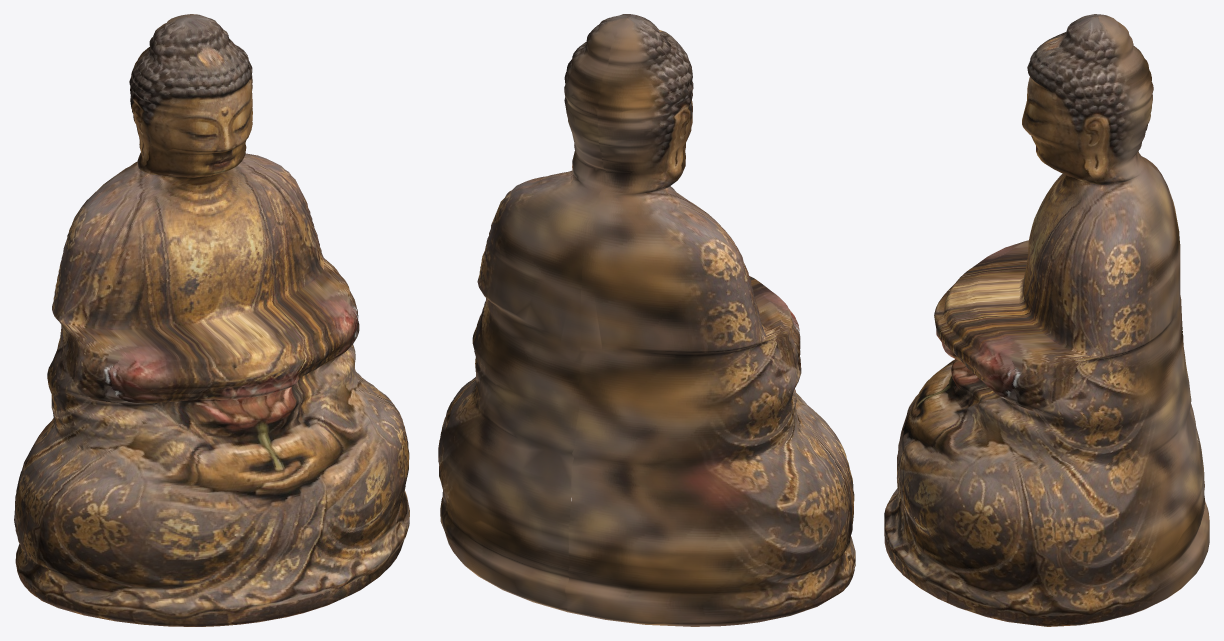
File: amitabha.glb
3 renders of one model, left to right at view 1: azimuth 30°, elevation 25°; view 2: azimuth 150°, elevation 25°; view 3: azimuth 270°, elevation 25°, orthographic. The views are drawn at different scales.
Parts seen in each view (by area): view 1: amitabha; view 2: amitabha; view 3: amitabha.
Part boxes in pixels (x1=…): amitabha: x1=14, y1=14, x2=409, y2=626; amitabha: x1=438, y1=14, x2=855, y2=626; amitabha: x1=884, y1=14, x2=1209, y2=626.
Bounding box in the file's own units: 0.7358 × 1 × 0.561.
1 material, 1 textured.
